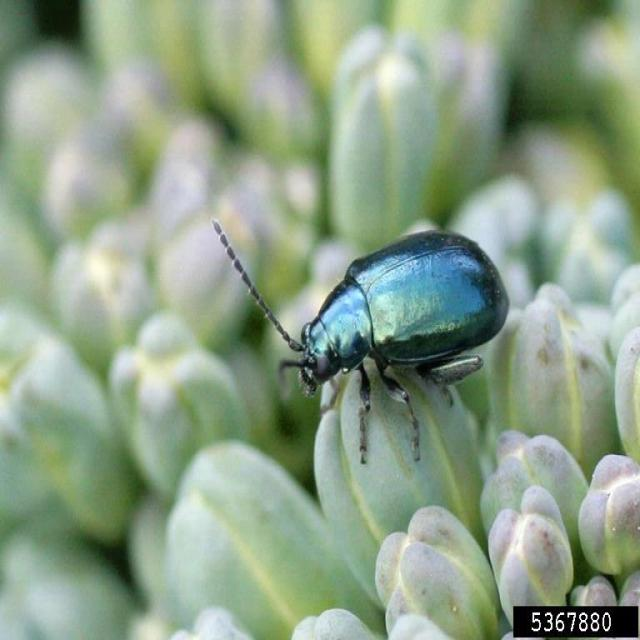flea_beetle: (198, 182, 505, 473)
